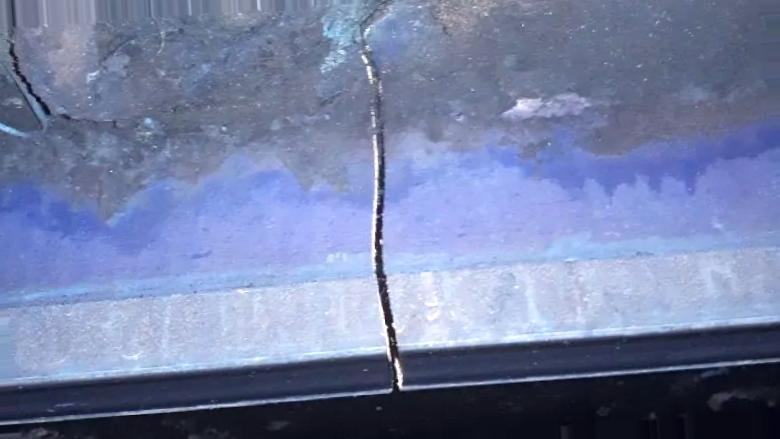tracks_fault: (319, 11, 453, 411)
